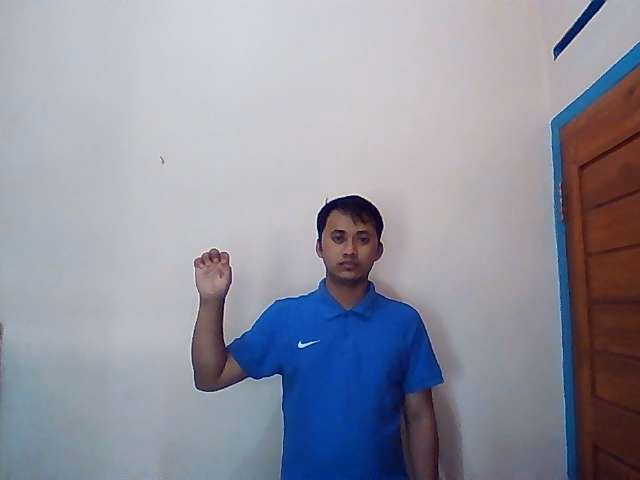E: (192, 247, 234, 302)
